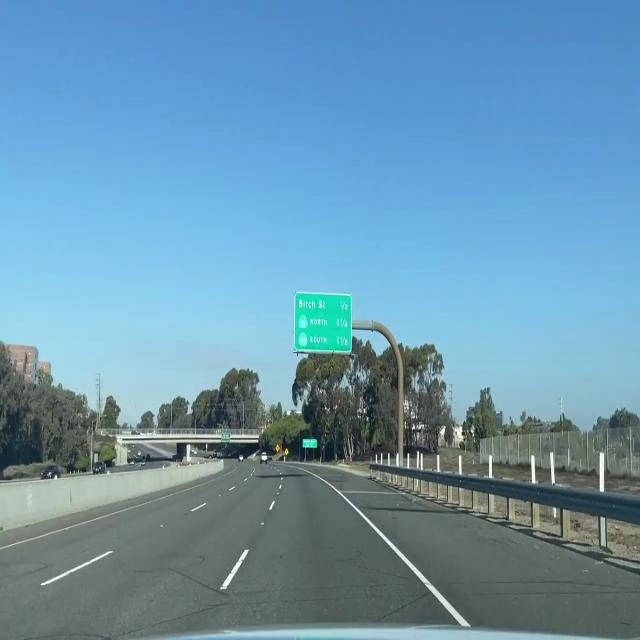street-signs: (293, 290, 353, 354), (302, 439, 318, 448), (220, 431, 232, 443)
